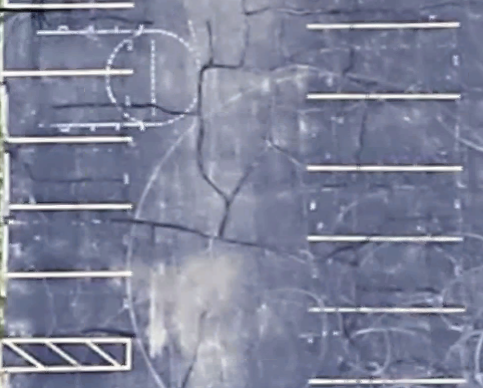Vacant: (308, 238, 466, 312), (307, 169, 464, 241), (307, 97, 461, 170), (307, 310, 465, 381), (306, 25, 459, 97), (1, 5, 133, 72), (1, 72, 132, 139), (2, 140, 131, 208), (2, 274, 129, 340), (2, 208, 130, 273)
